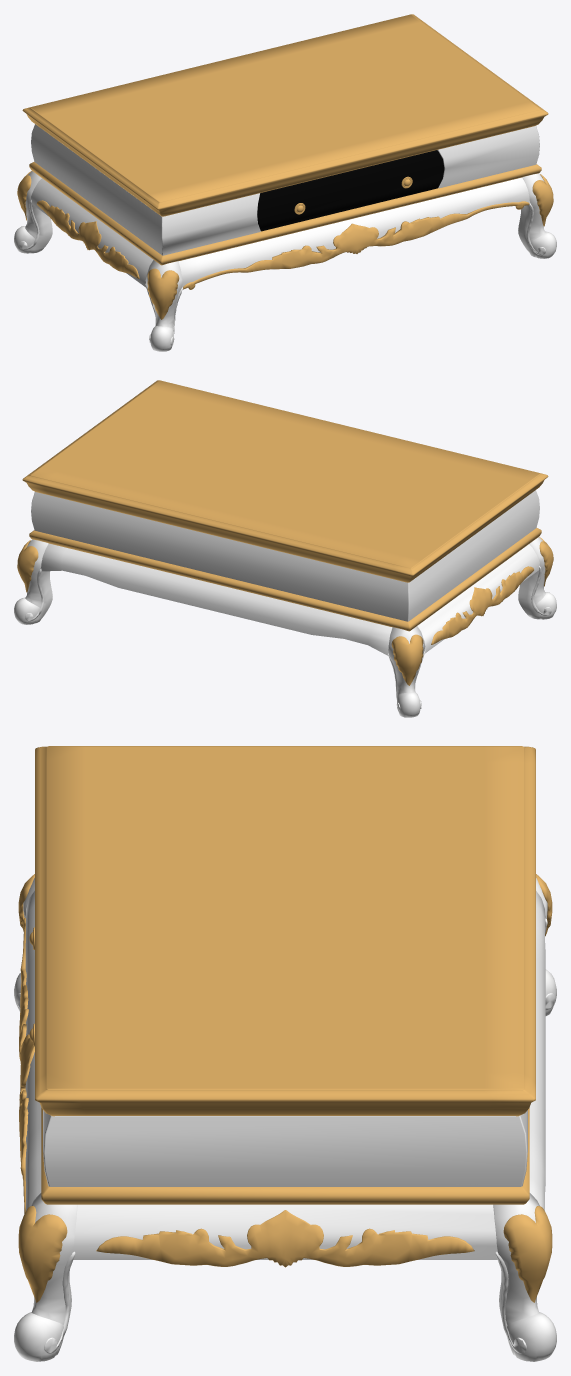
The picture shows the model from 3 angles, top to bottom: view 1: azimuth 30°, elevation 25°; view 2: azimuth 150°, elevation 25°; view 3: azimuth 270°, elevation 25°; orthographic projection. The views are drawn at different scales.
Parts seen in each view (by area): view 1: top, base, drawer; view 2: top, base; view 3: top, base.
Part boxes in pixels (x1,y1,x2,y2): top: [17, 14, 553, 319]; base: [14, 124, 556, 351]; drawer: [257, 150, 444, 231]; top: [17, 380, 553, 685]; base: [14, 490, 556, 717]; top: [18, 746, 552, 1302]; base: [14, 878, 556, 1361].
Bounding box in the file's own units: 1.54 × 0.5232 × 0.9728.
